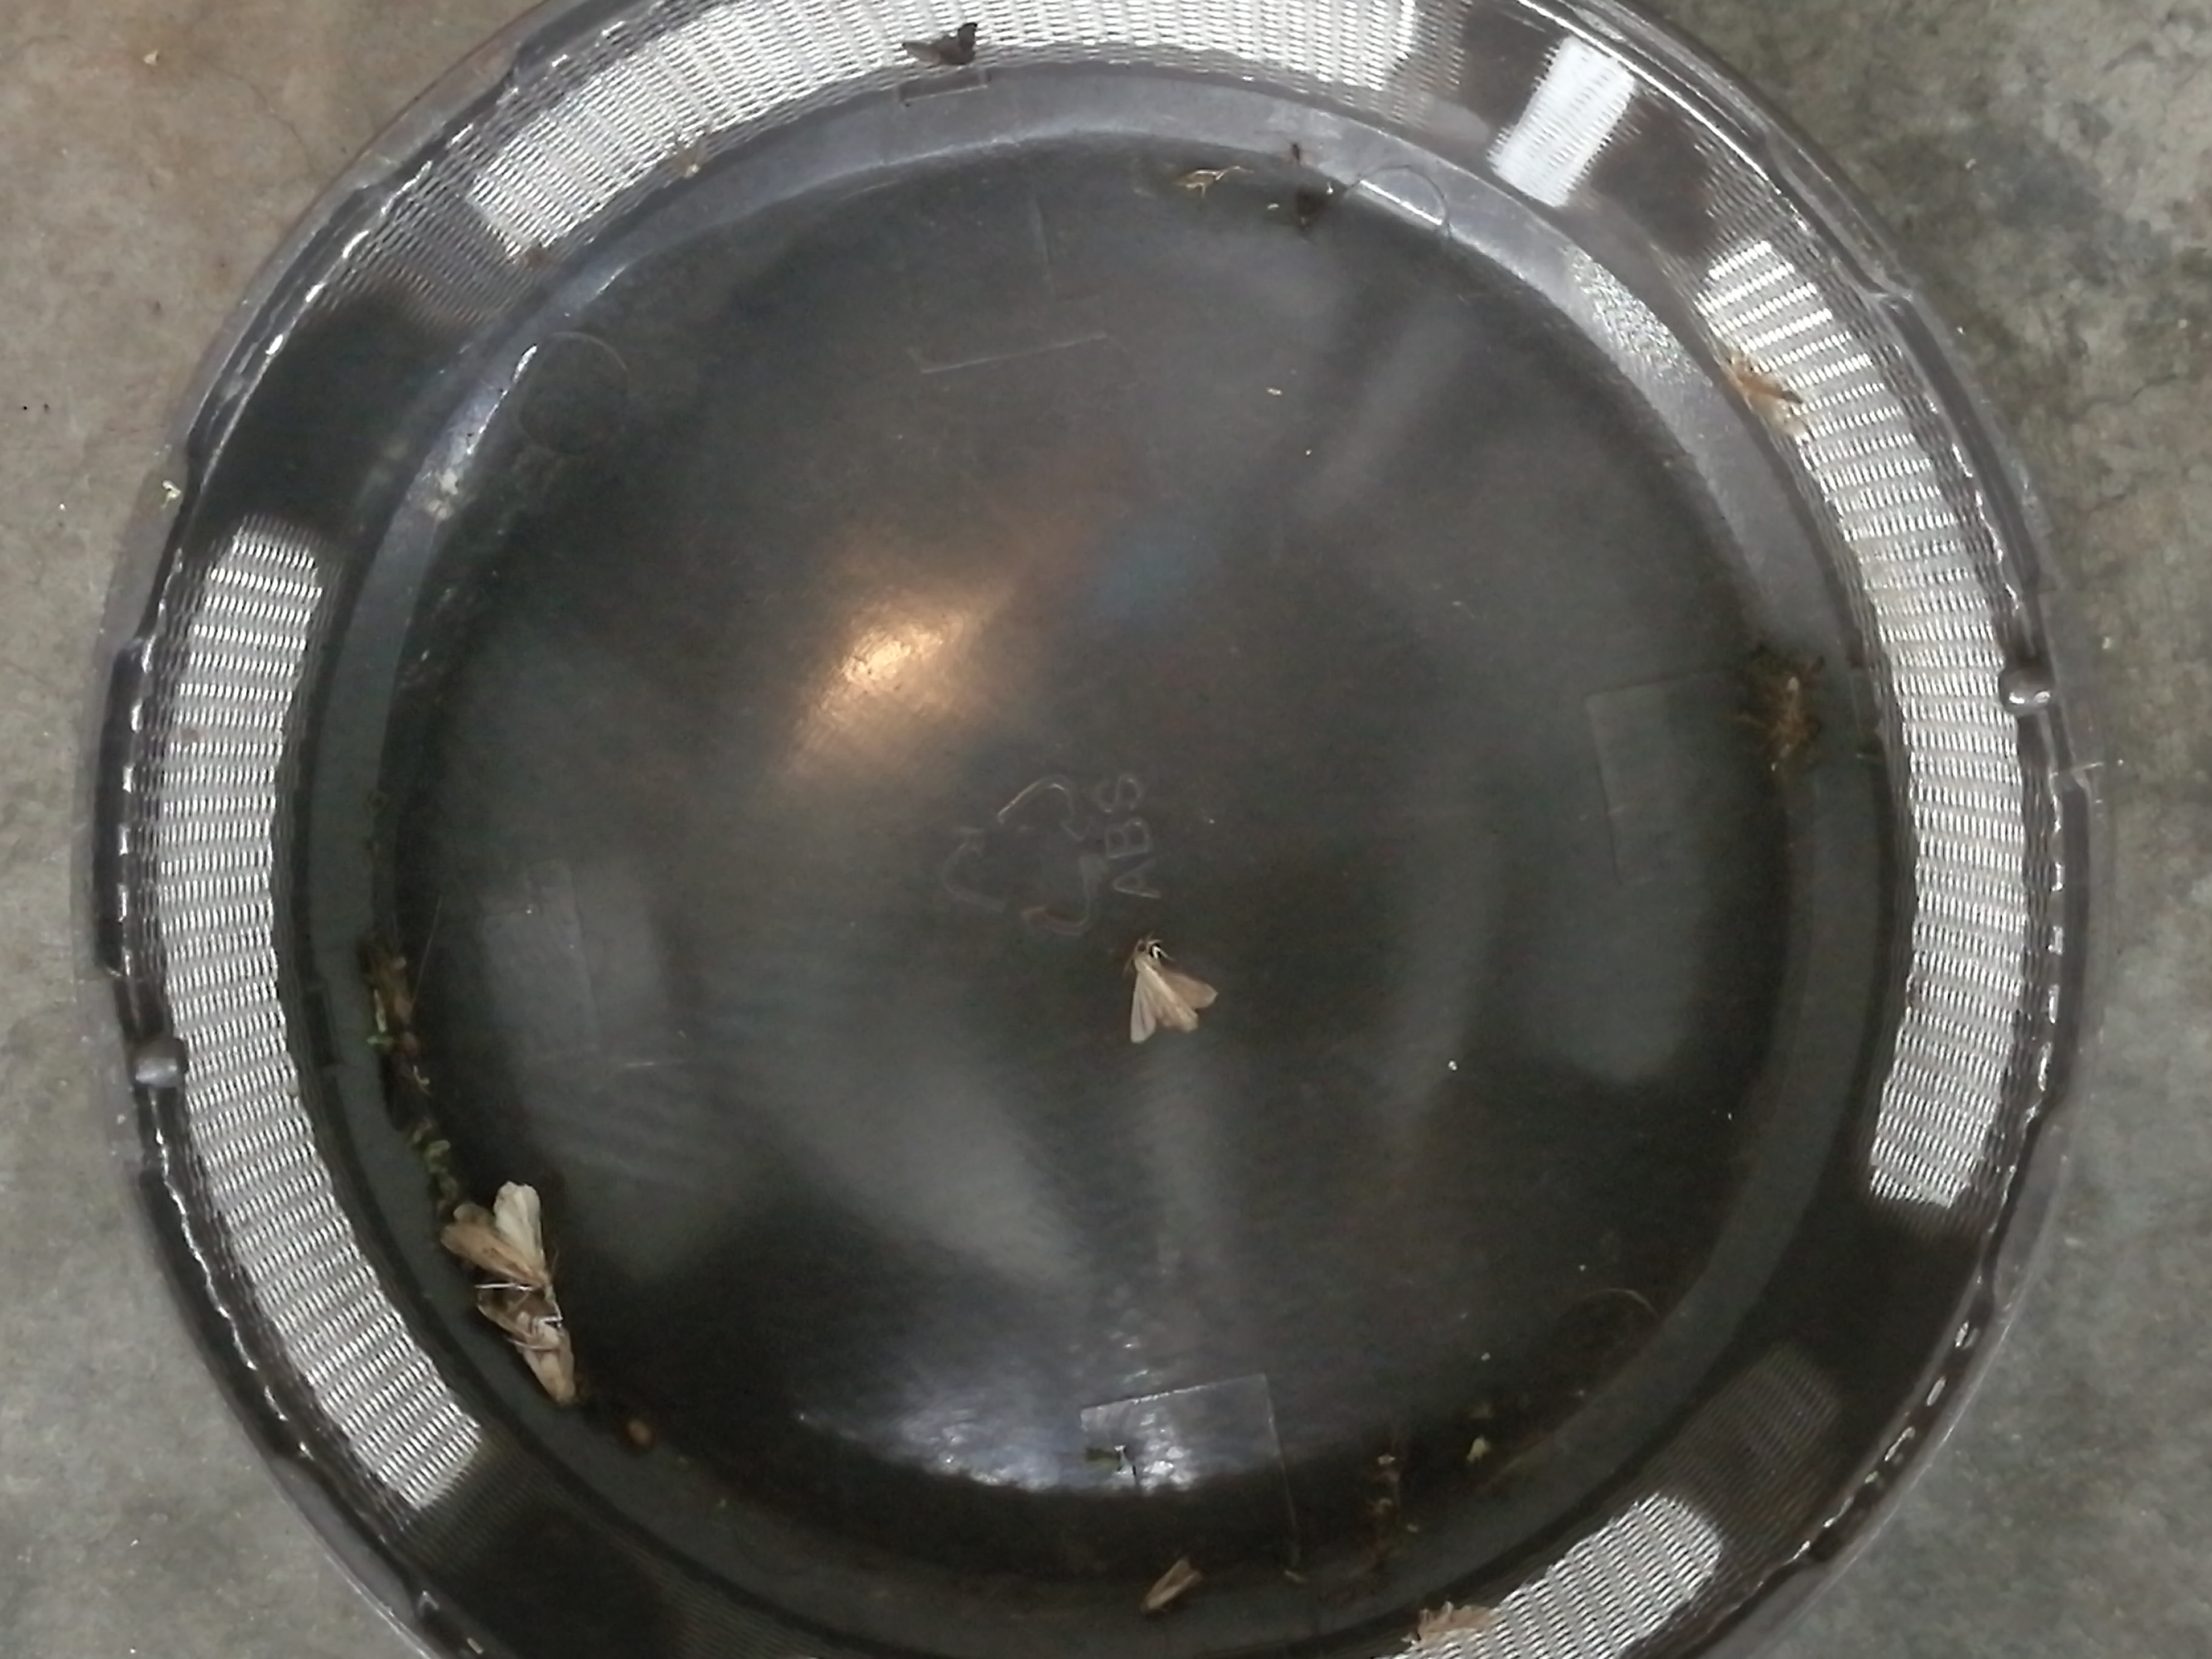moth: (442, 1183, 549, 1288), (475, 1295, 577, 1405), (1130, 941, 1216, 1046)
